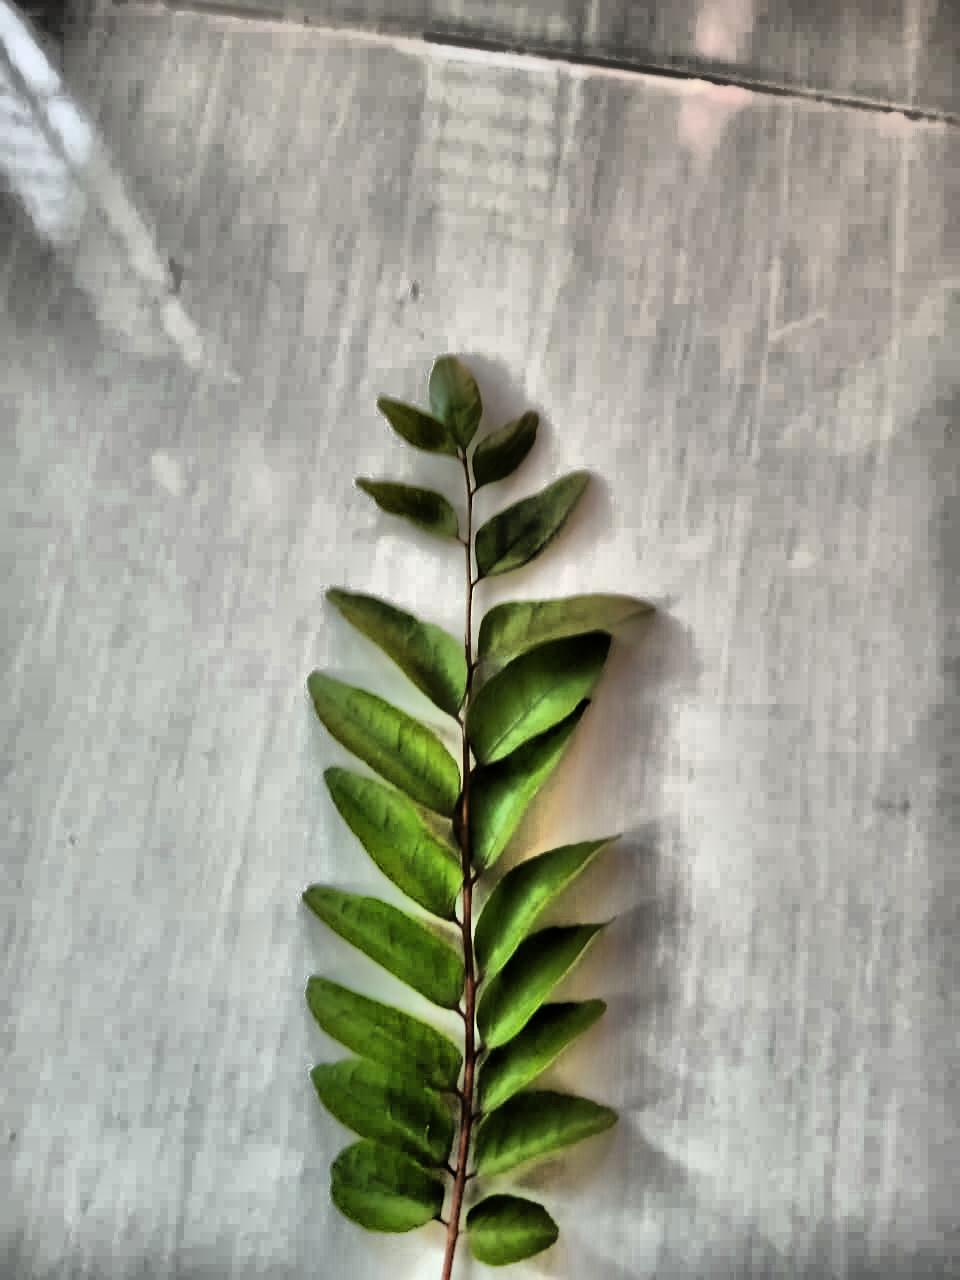daun kari: (303, 356, 653, 1279)
